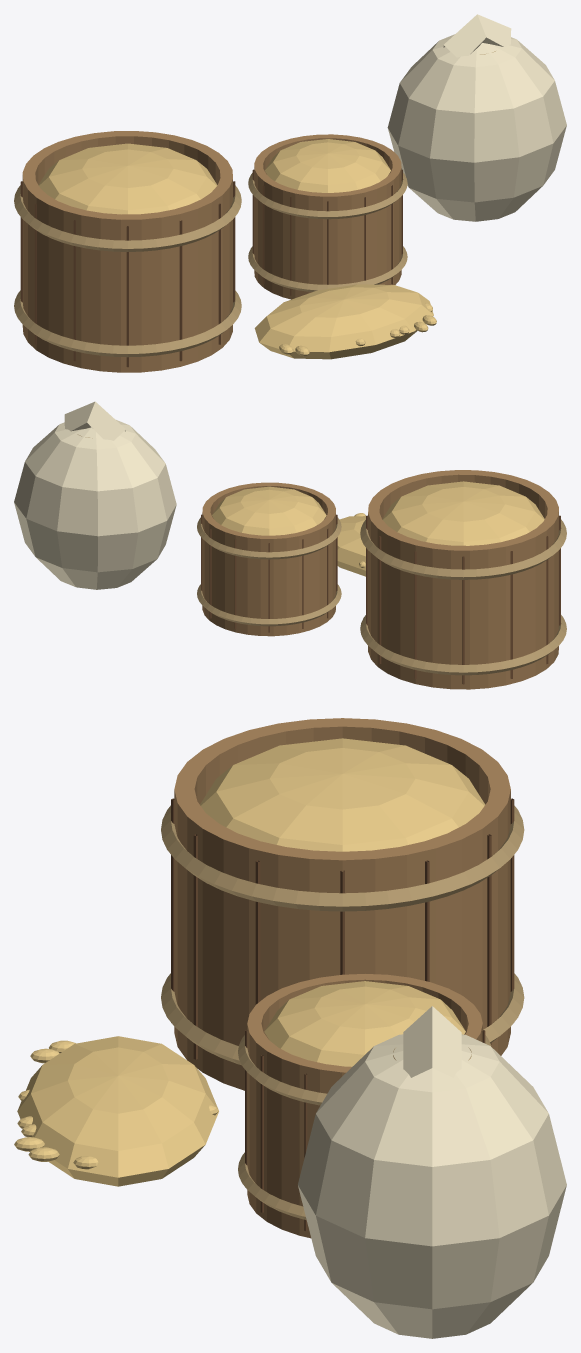
3 views of the same model, one above another, from view 1: azimuth 30°, elevation 25°; view 2: azimuth 150°, elevation 25°; view 3: azimuth 270°, elevation 25° (orthographic). The views are drawn at different scales.
Visible parts, largest first — view 1: BA-0042 batched; view 2: BA-0042 batched; view 3: BA-0042 batched.
Part boxes in pixels (x1,y1,x2,y2): BA-0042 batched: [14, 14, 566, 372]; BA-0042 batched: [14, 401, 566, 689]; BA-0042 batched: [14, 718, 566, 1338].
Size of the model in its own units: 0.912 by 0.316 by 0.493.
